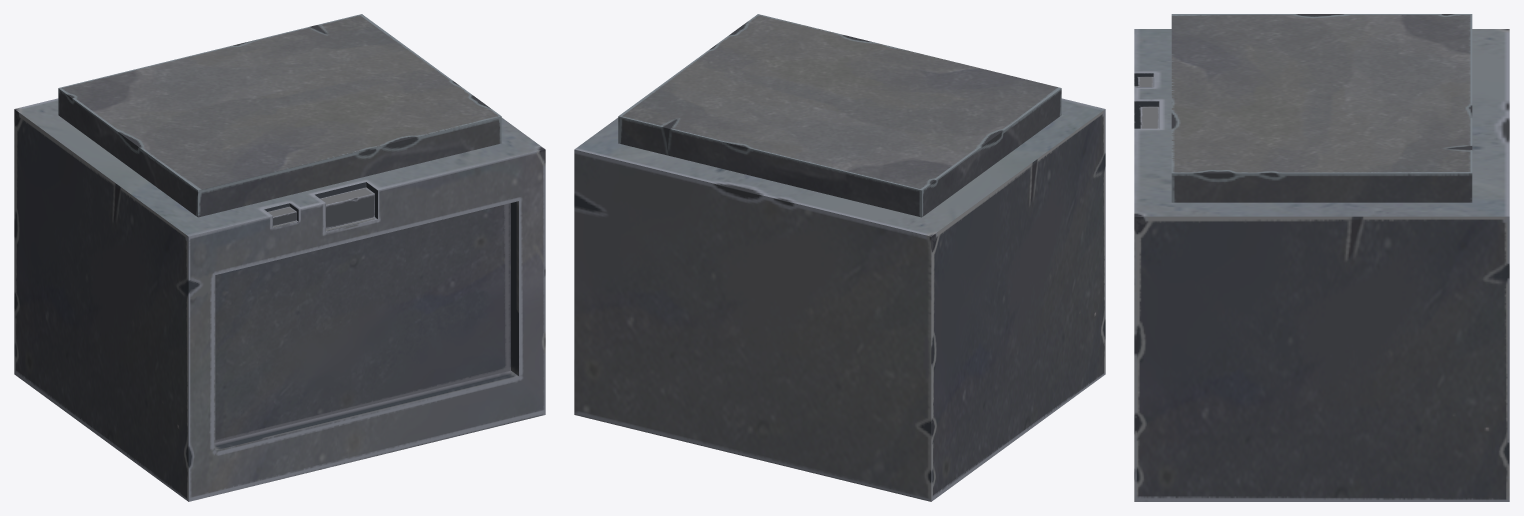
File: Statue_base.FBX
The picture shows the model from 3 angles, left to right: view 1: azimuth 30°, elevation 25°; view 2: azimuth 150°, elevation 25°; view 3: azimuth 270°, elevation 25°; orthographic projection. The views are drawn at different scales.
Visible parts, largest first — view 1: Object114; view 2: Object114; view 3: Object114.
Boxes of the visible parts, x1,y1,x2,y2 form: Object114: (14, 14, 545, 501); Object114: (574, 14, 1105, 501); Object114: (1134, 14, 1509, 501).
Bounding box in the file's own units: 157 × 123 × 133.
Materials: 1 (1 with a texture image).
